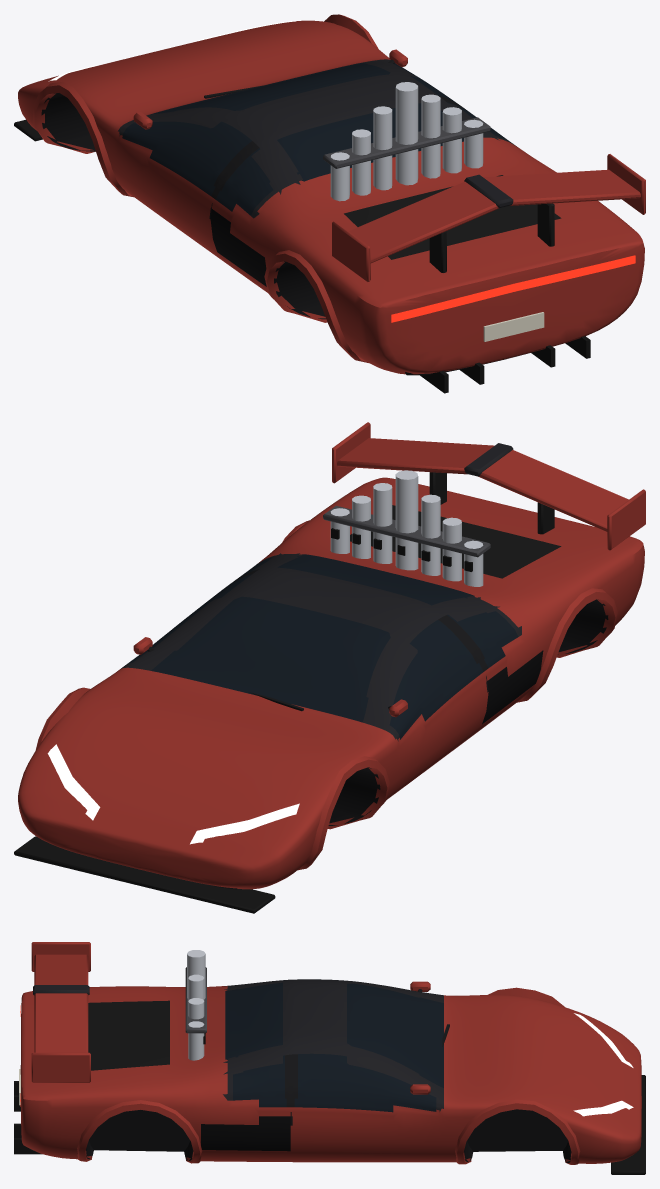
The model's file is car_requiem.glb.
3 views of the same model, one above another, from view 1: azimuth 30°, elevation 25°; view 2: azimuth 150°, elevation 25°; view 3: azimuth 270°, elevation 25° (orthographic). The views are drawn at different scales.
Parts seen in each view (by area): view 1: body, parts, lips, strip2, strip3; view 2: body, parts, lips, strip2, strip0.001, strip0; view 3: body, parts, strip2, lips, strip0.
Part boxes in pixels (box(x1,y1,x2,y2)): body: box(18, 20, 644, 374); parts: box(14, 49, 645, 393); lips: box(32, 14, 378, 362); strip2: box(344, 175, 561, 259); strip3: box(391, 255, 635, 322); body: box(18, 477, 644, 889); parts: box(14, 422, 645, 913); lips: box(35, 520, 617, 870); strip2: box(350, 505, 561, 578); strip0.001: box(190, 803, 299, 844); strip0: box(47, 744, 100, 820); body: box(20, 979, 641, 1163); parts: box(14, 942, 645, 1174); strip2: box(88, 1000, 169, 1070); lips: box(77, 987, 580, 1164); strip0: box(573, 1100, 633, 1116).
Size of the model in its own units: 2.06 by 1.44 by 4.68.
